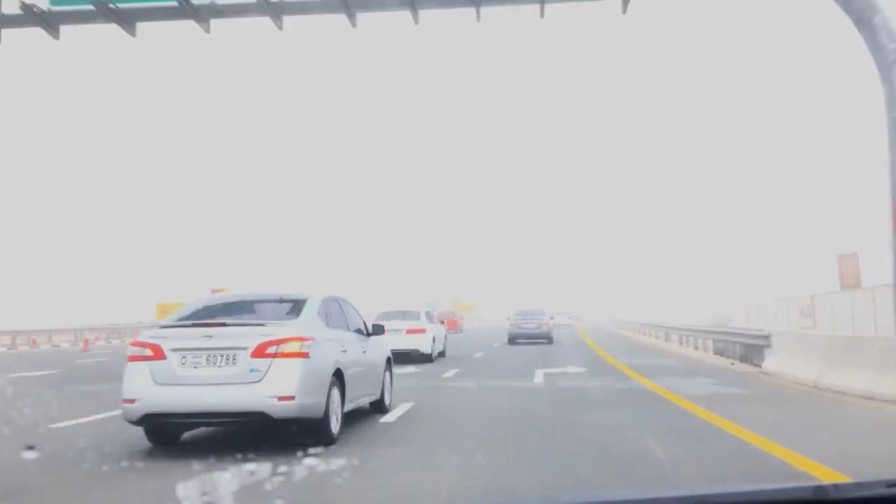car: (119, 290, 395, 444), (365, 309, 448, 363), (503, 307, 554, 348), (431, 310, 467, 335), (549, 309, 573, 329)
